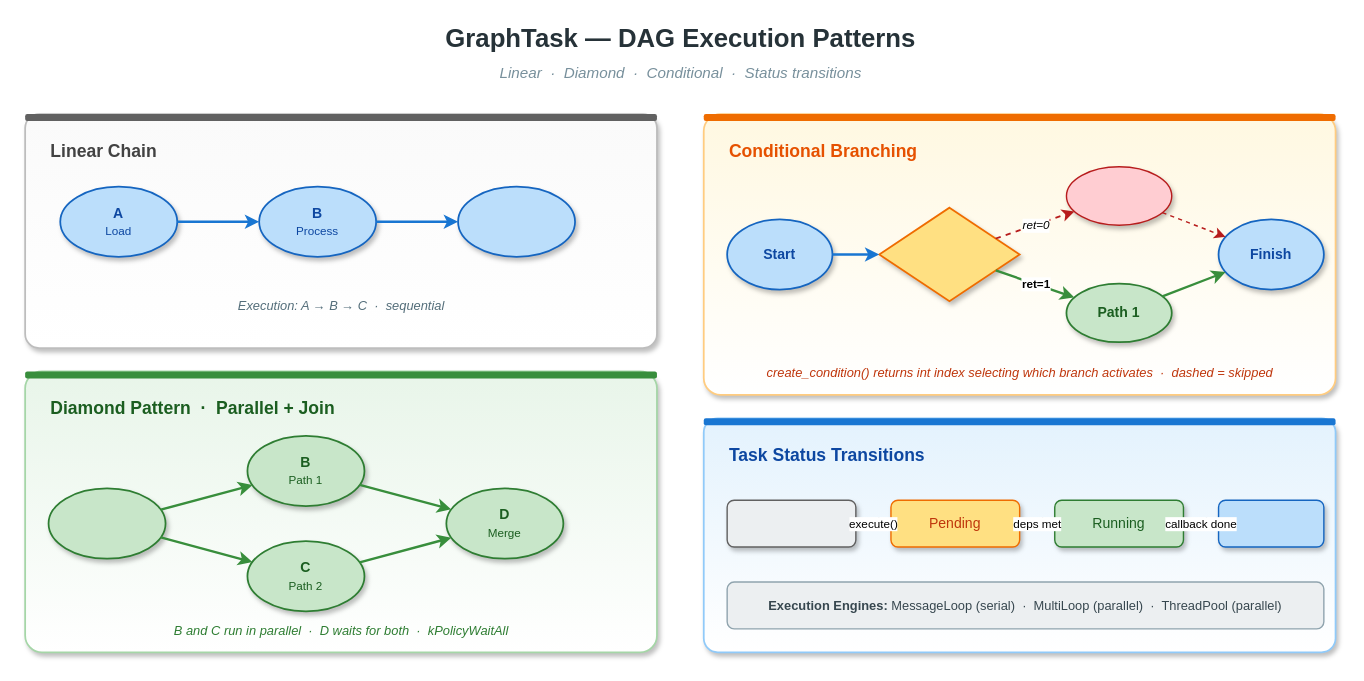
This 1364x681 diagram has some shape labels left out. Here are the shapes that lost their labels. From the top down, the centre of each, then its label:
At (1119,197): "Path 0".
At (517,223): "C Save".
At (950,256): "Branch condition".
At (107,524): "A Init".
At (792,524): "InActive".
At (1272,524): "Done".
